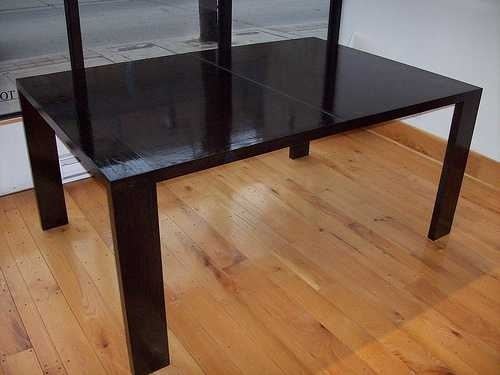obstacle: (17, 38, 481, 373)
